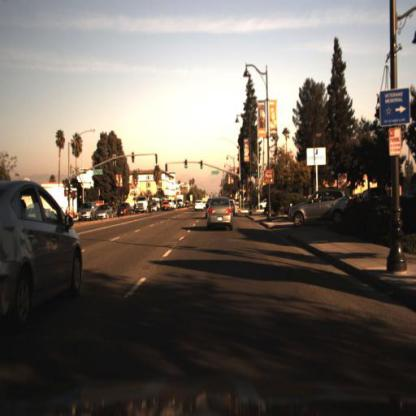car: (2, 181, 93, 329), (286, 188, 343, 224), (201, 193, 236, 237), (114, 201, 133, 219), (232, 193, 242, 217), (119, 204, 133, 220), (194, 197, 207, 214)
trafficLight-Green: (182, 160, 190, 174), (199, 164, 205, 177), (240, 176, 246, 189)
truck: (134, 194, 152, 217)
